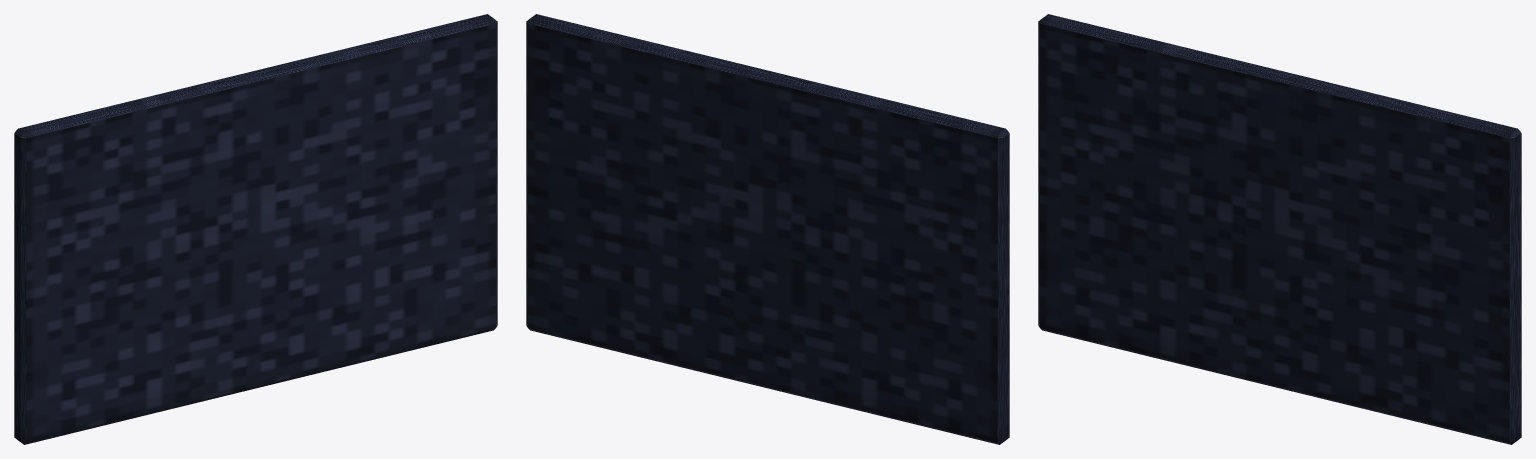
File: marker_depth_sign.fbx
3 views of the same model, side by side, from view 1: azimuth 30°, elevation 25°; view 2: azimuth 150°, elevation 25°; view 3: azimuth 330°, elevation 25° (orthographic).
Parts seen in each view (by area): view 1: marker_depth_sign; view 2: marker_depth_sign; view 3: marker_depth_sign.
Boxes of the visible parts, x1,y1,x2,y2 form: marker_depth_sign: (14,14,497,444); marker_depth_sign: (526,14,1009,444); marker_depth_sign: (1038,14,1521,444).
Bounding box in the file's own units: 16 × 10 × 0.6.
Materials: 1 (1 with a texture image).
